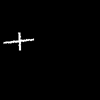single_crochet: (4, 33, 33, 49)
